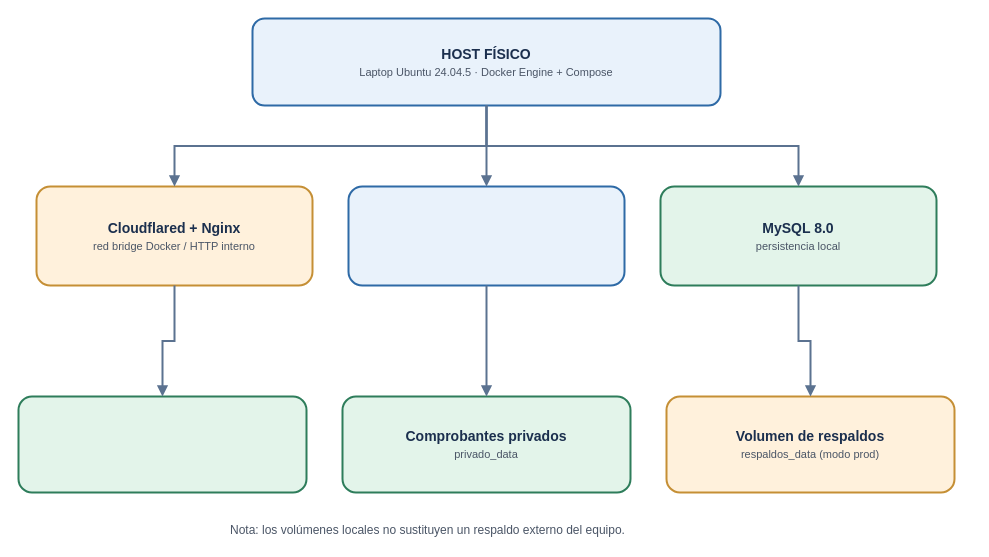
The diagram is 989 pixels wide and 557 high, and some of its shapes have lost their labels. The centre of each missing label's shape, as x and y in pixels:
"Next.js + Django tienda, API y administración" belongs at pixel 486 235.
"Volúmenes públicos static_data y media_data" belongs at pixel 162 444.
